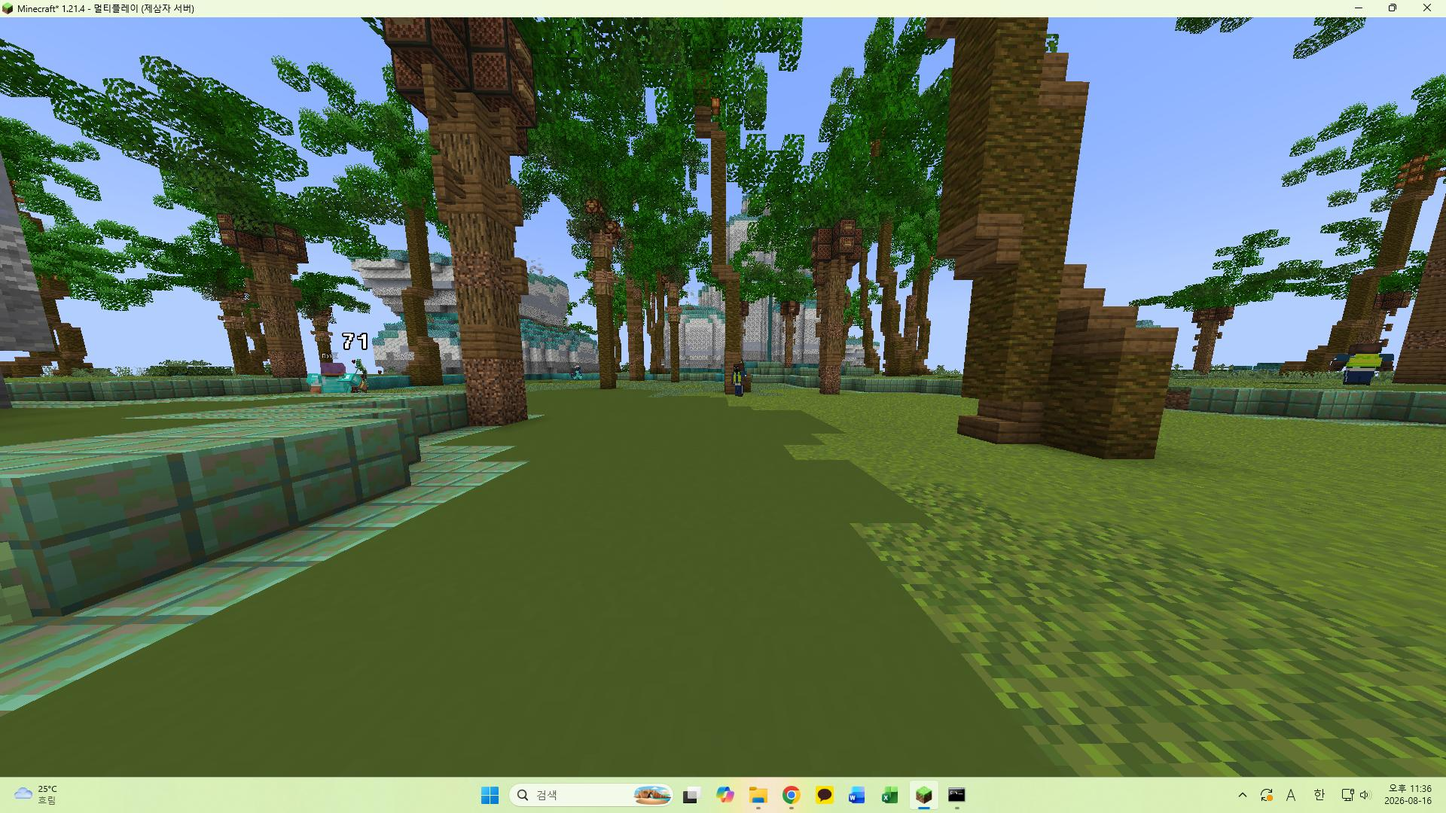Guardian: (725, 361, 750, 397)
